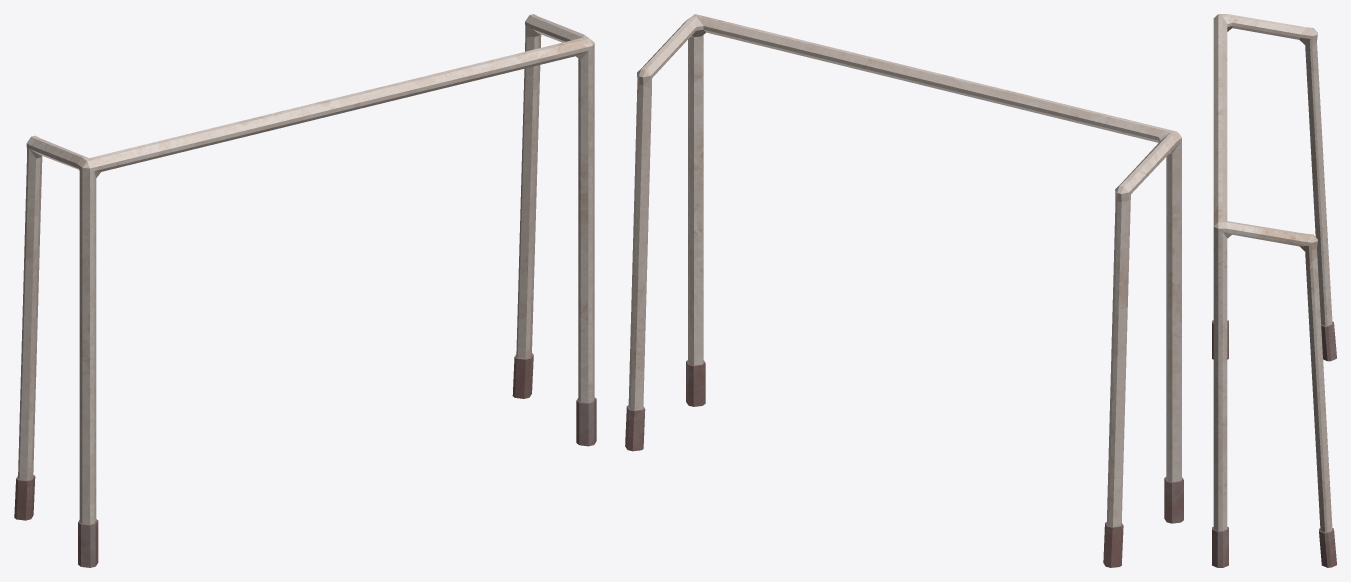
File: 장애물_골대.fbx
The picture shows the model from 3 angles, left to right: view 1: azimuth 30°, elevation 25°; view 2: azimuth 150°, elevation 25°; view 3: azimuth 270°, elevation 25°; orthographic projection. The views are drawn at different scales.
Visible parts, largest first — view 1: 골대; view 2: 골대; view 3: 골대.
Boxes of the visible parts, <box> form: 골대: <box>14,14,596,567</box>; 골대: <box>625,14,1183,567</box>; 골대: <box>1212,14,1336,567</box>.
Bounding box in the file's own units: 400 × 299 × 98.68.
